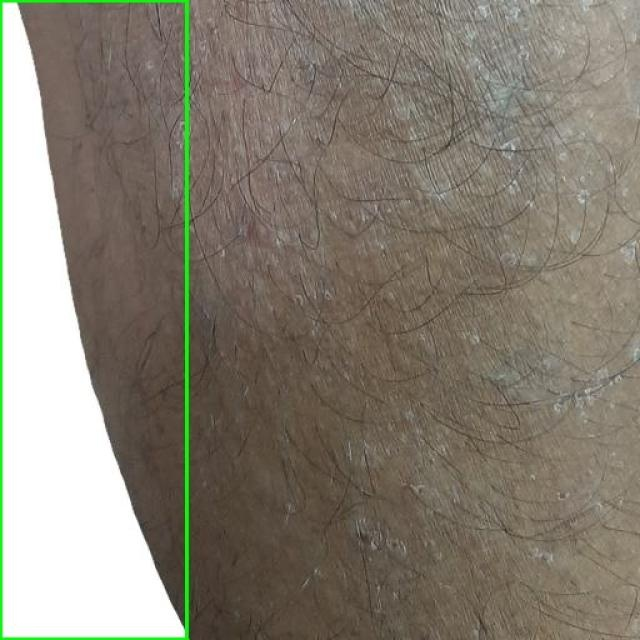Contact Dermatitis: (0, 0, 186, 639)
